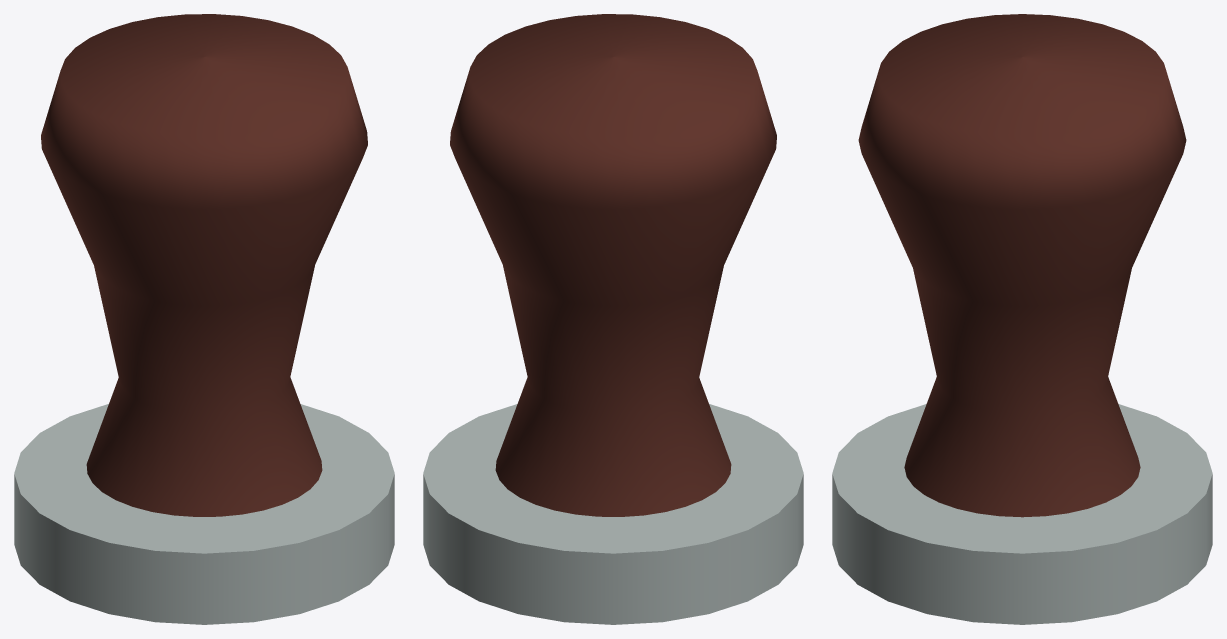
Rendered from tamper.glb.
3 views of the same model, side by side, from view 1: azimuth 30°, elevation 25°; view 2: azimuth 150°, elevation 25°; view 3: azimuth 270°, elevation 25° (orthographic).
Visible parts, largest first — view 1: surface-#5A2E25,0,0.7, surface-#AFB9B7,0.9,0.25; view 2: surface-#5A2E25,0,0.7, surface-#AFB9B7,0.9,0.25; view 3: surface-#5A2E25,0,0.7, surface-#AFB9B7,0.9,0.25.
Part boxes in pixels (left/top/right/bottom): surface-#5A2E25,0,0.7: left=41, top=14, right=367, bottom=516; surface-#AFB9B7,0.9,0.25: left=14, top=404, right=394, bottom=624; surface-#5A2E25,0,0.7: left=450, top=14, right=776, bottom=516; surface-#AFB9B7,0.9,0.25: left=423, top=404, right=803, bottom=624; surface-#5A2E25,0,0.7: left=858, top=14, right=1186, bottom=517; surface-#AFB9B7,0.9,0.25: left=832, top=404, right=1212, bottom=624.
Size of the model in its own units: 0.058 by 0.082 by 0.058.
